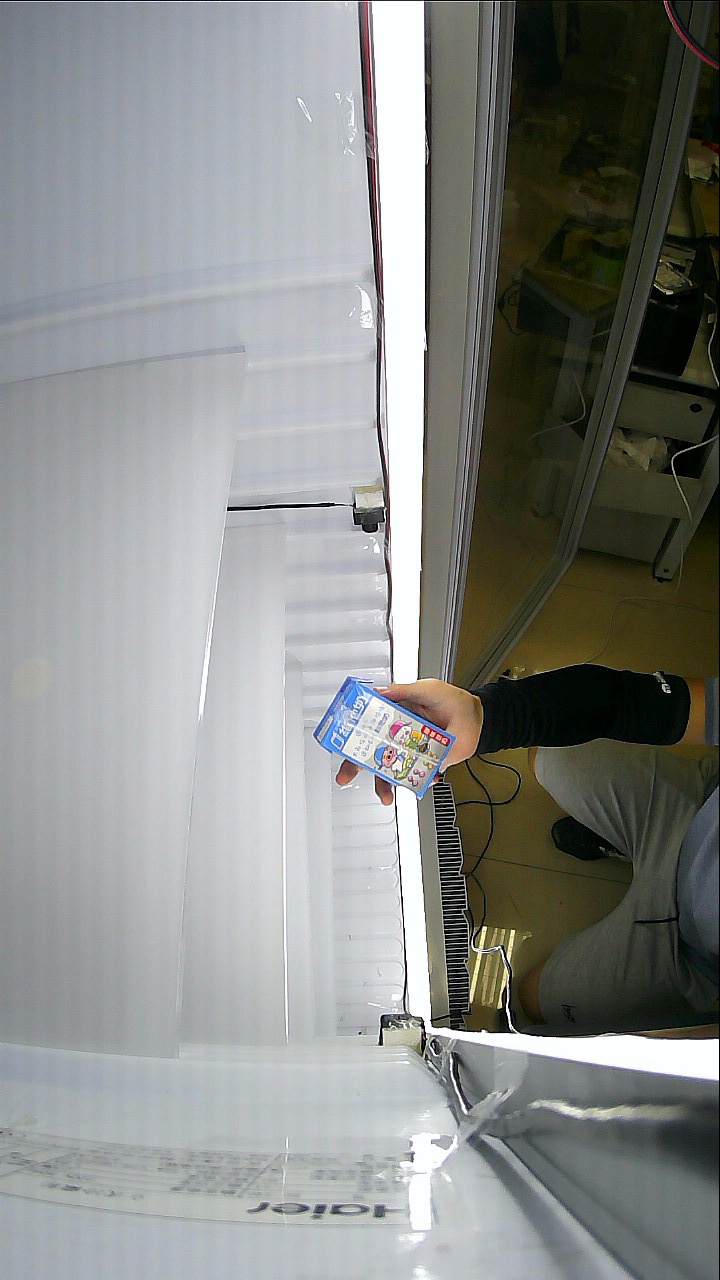VitaSoyOriginal: (318, 681, 514, 809)
